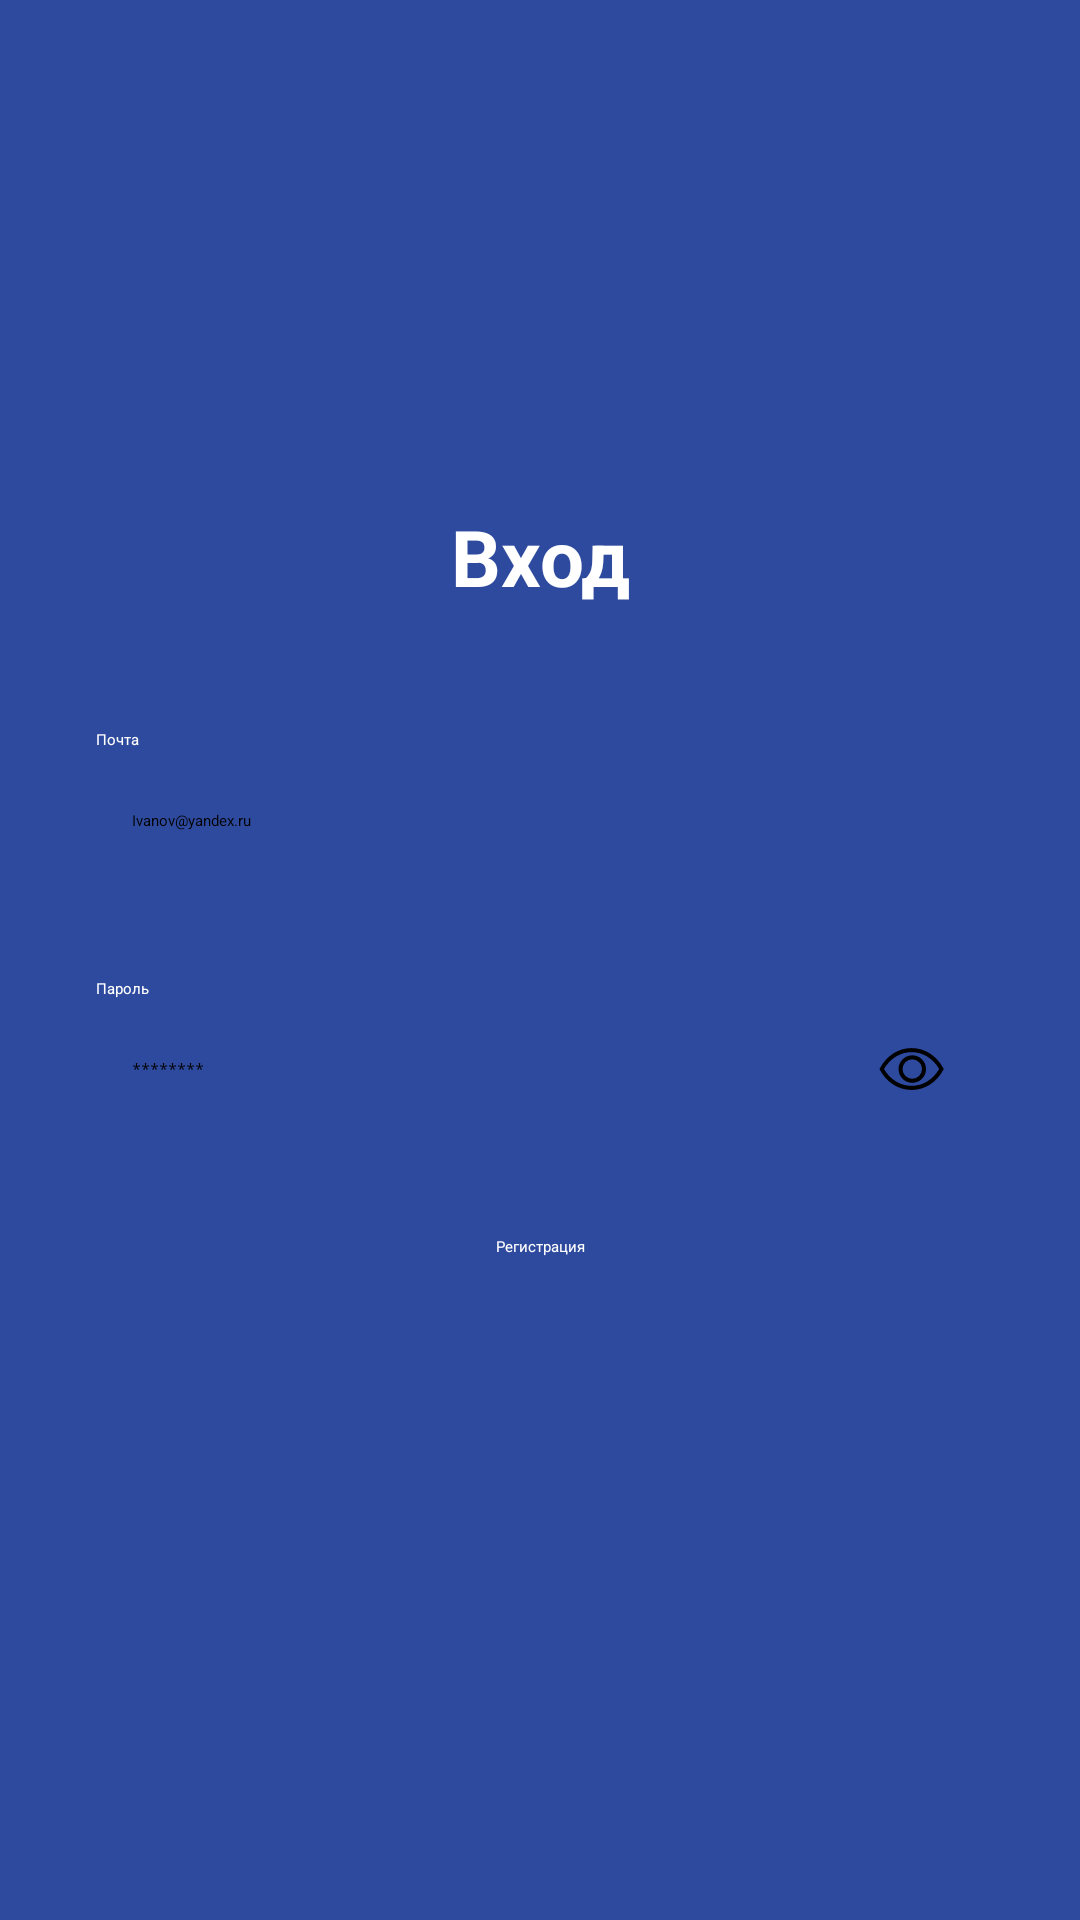

Icon bounding boxes for this 1080px×1920px phone screenshot, format (x1, y1, x2, y2):
eye open: (879, 1048, 944, 1090)
